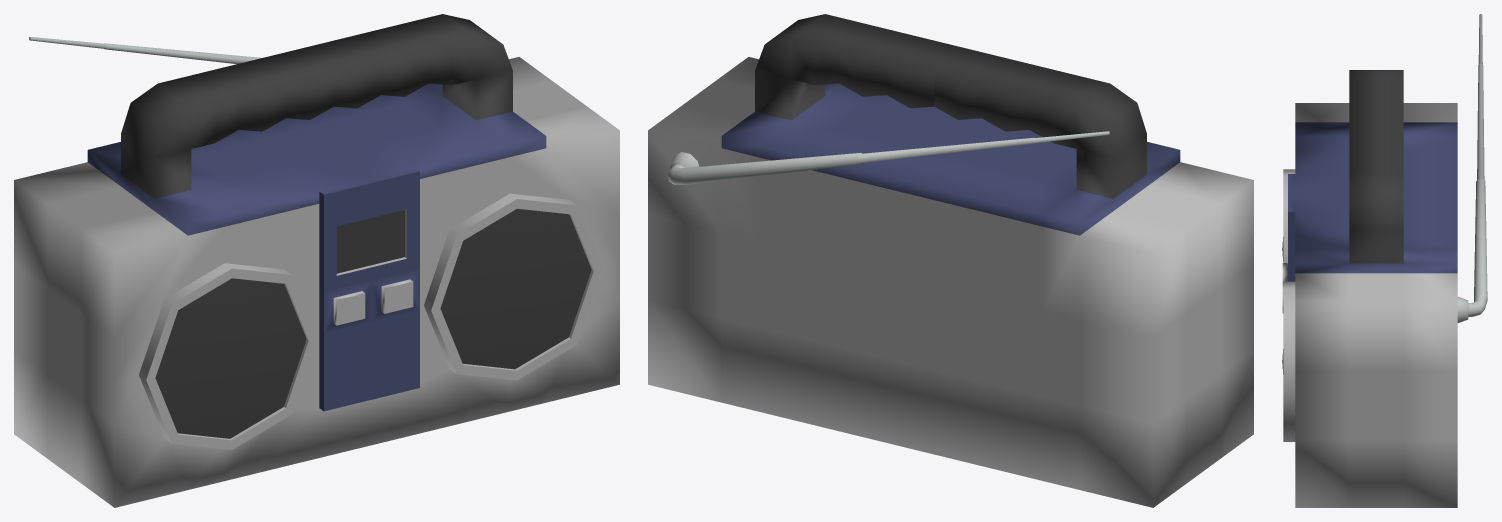
The model's file is MP_Ass2_Radio.fbx.
3 renders of one model, left to right at view 1: azimuth 30°, elevation 25°; view 2: azimuth 150°, elevation 25°; view 3: azimuth 270°, elevation 25°, orthographic. The views are drawn at different scales.
Visible parts, largest first — view 1: Cube, Circle; view 2: Cube, Circle; view 3: Cube, Circle.
Part boxes in pixels (x1,y1,x2,y2): Cube: [14, 14, 619, 507]; Circle: [29, 37, 261, 63]; Cube: [648, 14, 1253, 507]; Circle: [667, 131, 1109, 184]; Cube: [1282, 70, 1457, 507]; Circle: [1457, 14, 1487, 323].
Size of the model in its own units: 580 by 417 by 253.
